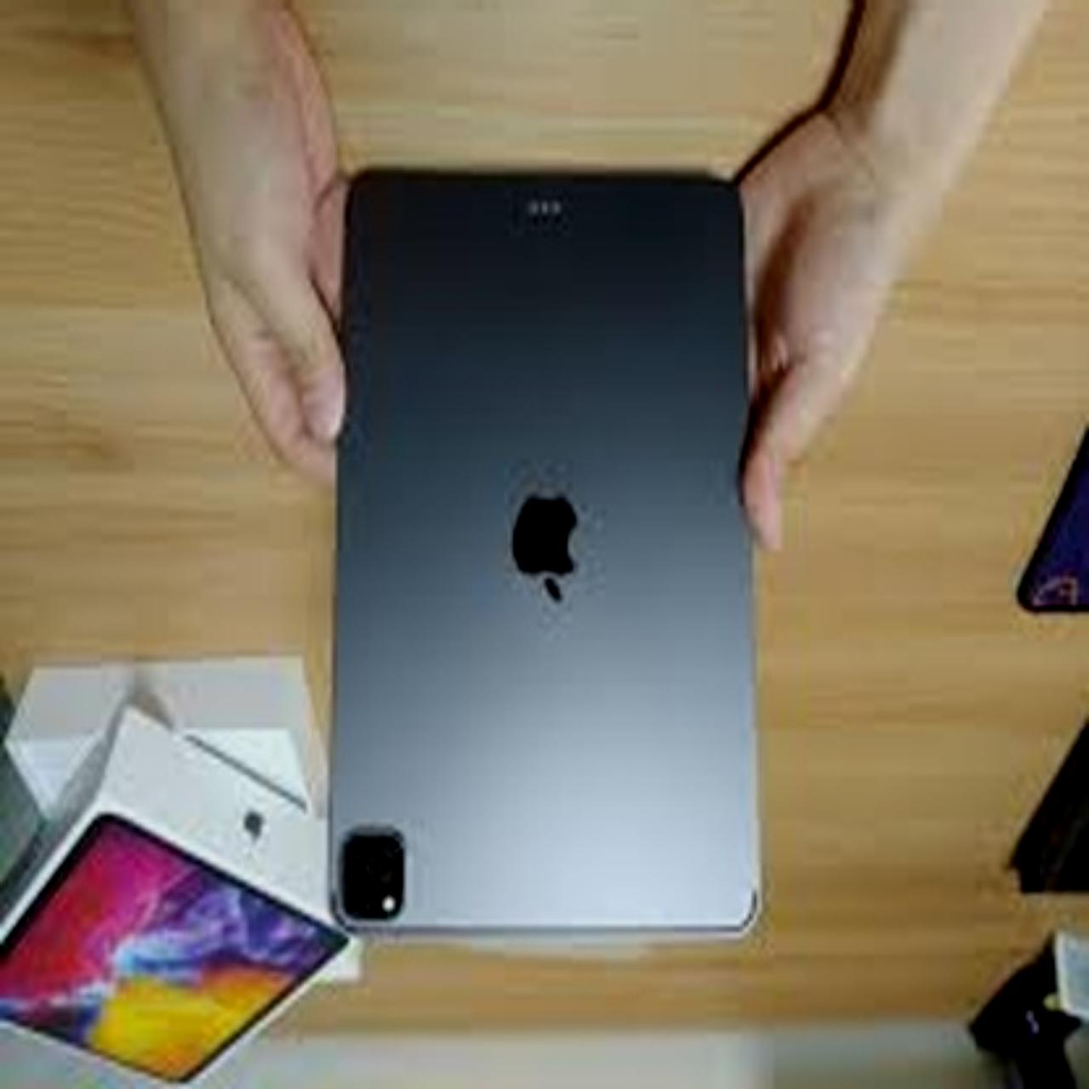Tablet_PC: (319, 147, 775, 947)
